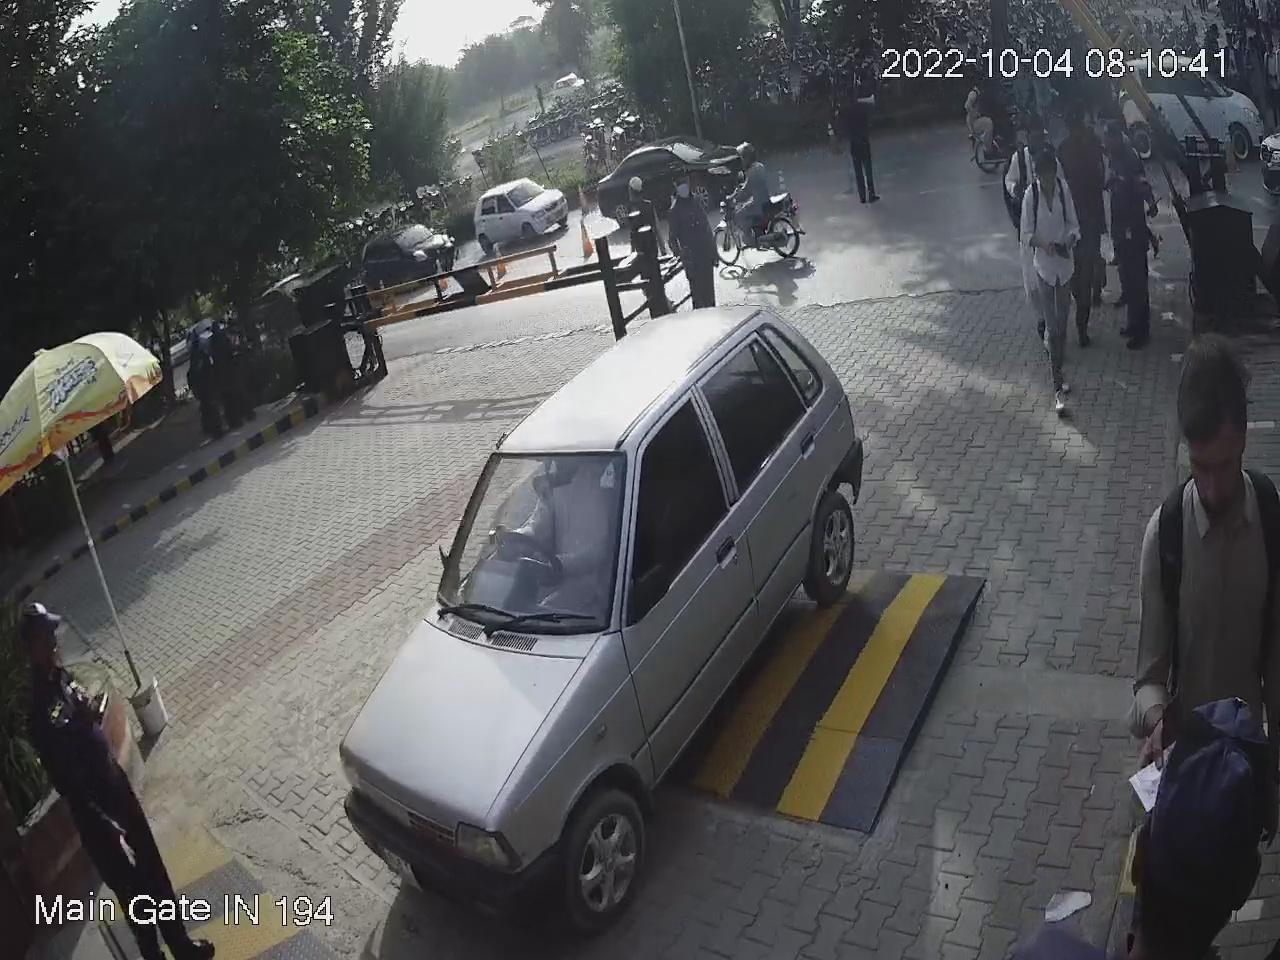windshield: (435, 438, 635, 642)
